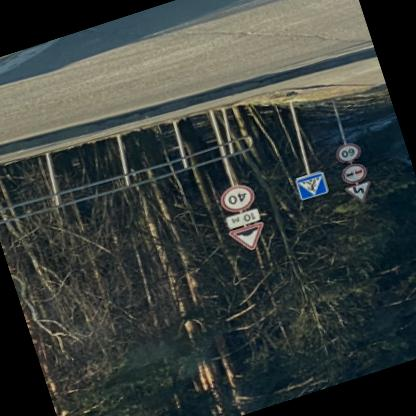crosswalk: (297, 171, 332, 202)
speedlimit: (222, 181, 260, 214), (337, 141, 365, 166)
